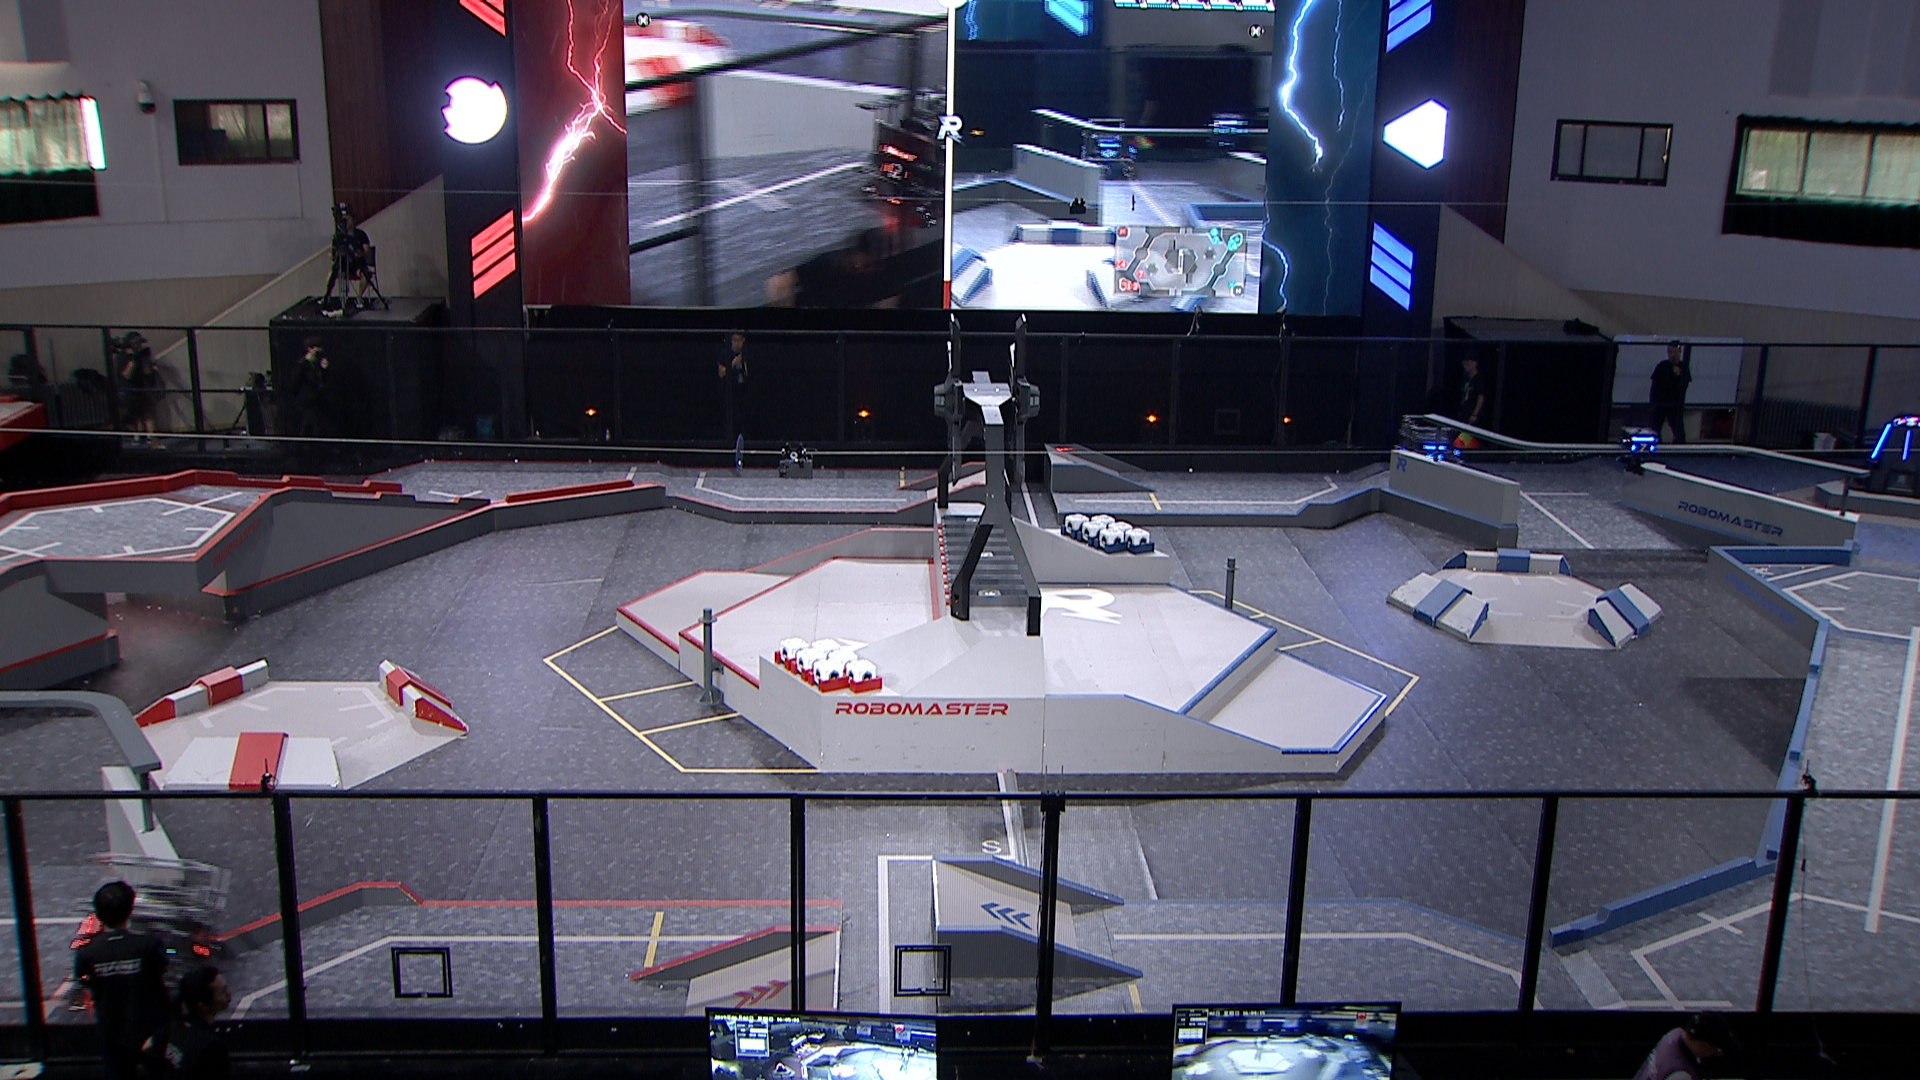armor: (1869, 422, 1890, 458), (1899, 425, 1913, 458), (1627, 440, 1652, 455)
base: (1849, 409, 1920, 498)
car: (53, 847, 243, 1021), (1389, 407, 1476, 485)
ignore: (855, 86, 955, 215), (1076, 115, 1139, 182), (1203, 109, 1247, 149), (1894, 413, 1920, 431)
watcher: (1613, 418, 1662, 480)
